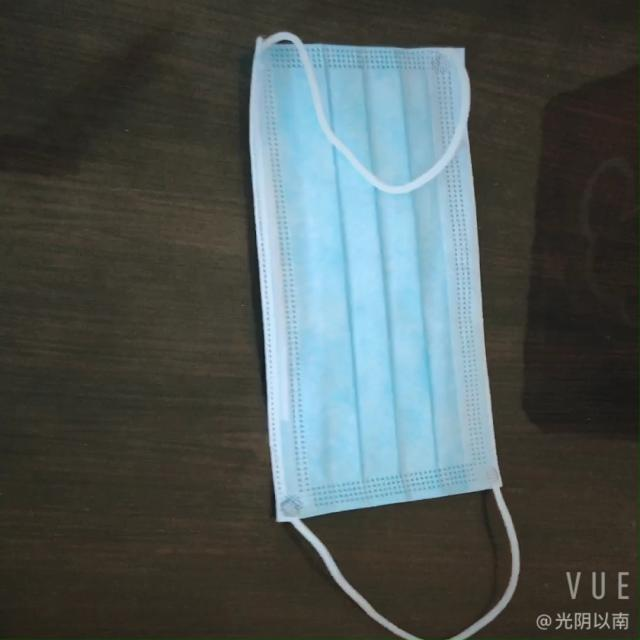non-organic waste: (234, 38, 515, 524)
